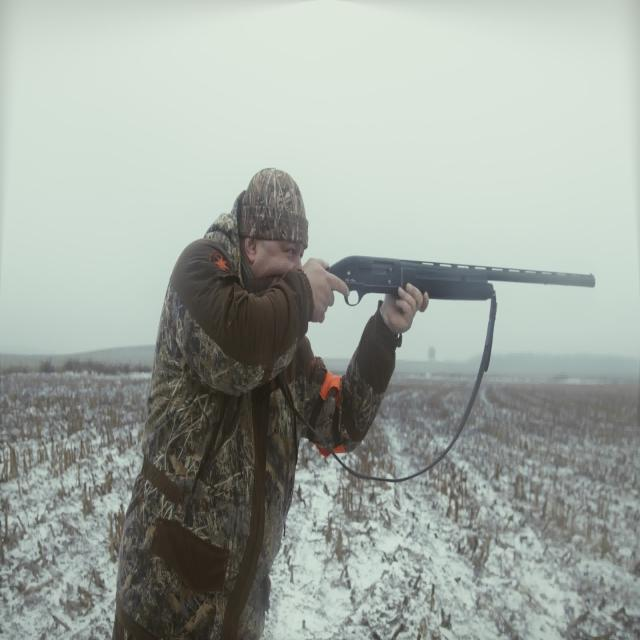poacher: (244, 196, 404, 604)
weapon: (316, 214, 574, 350)
